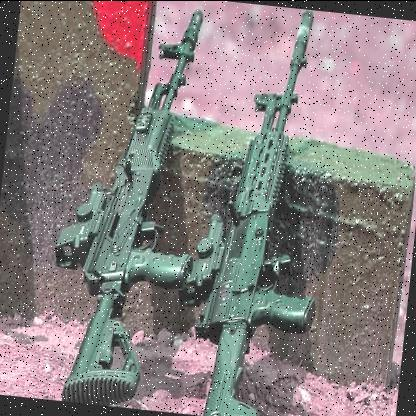rifle: (191, 6, 354, 416), (51, 0, 212, 406)
